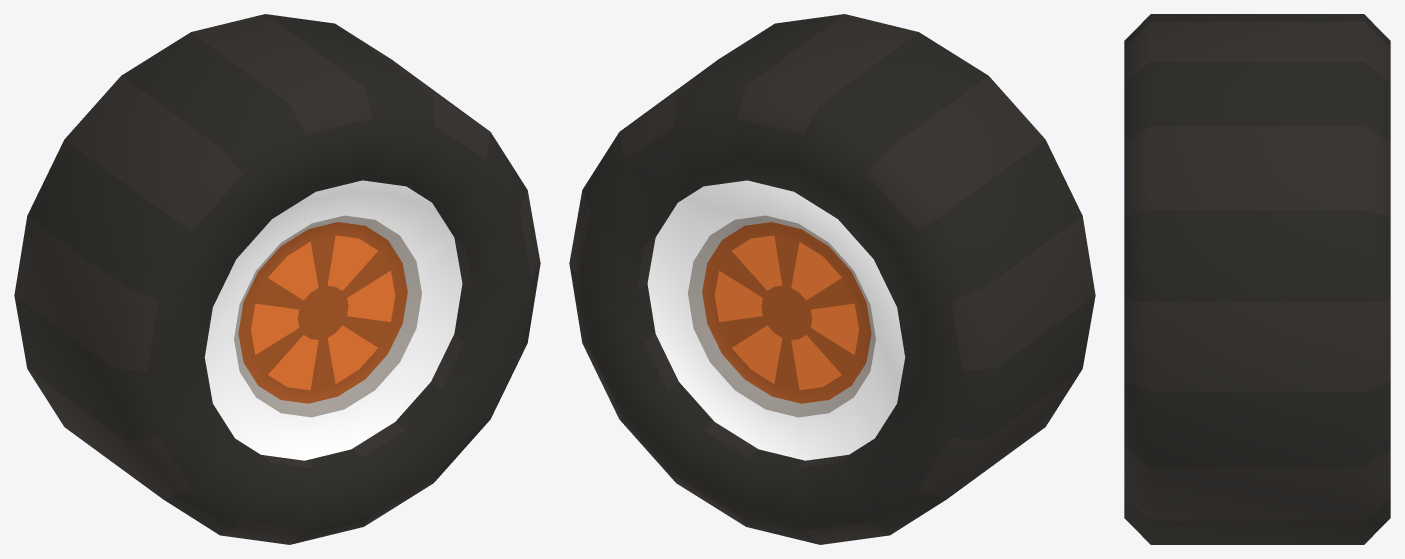
The model's file is wheel.glb.
3 views of the same model, side by side, from view 1: azimuth 30°, elevation 25°; view 2: azimuth 150°, elevation 25°; view 3: azimuth 270°, elevation 25° (orthographic). The views are drawn at different scales.
Visible parts, largest first — view 1: car_wheel; view 2: car_wheel; view 3: car_wheel.
Part boxes in pixels (x1=…): car_wheel: x1=14, y1=14, x2=540, y2=544; car_wheel: x1=569, y1=14, x2=1095, y2=544; car_wheel: x1=1124, y1=14, x2=1390, y2=544.
Bounding box in the file's own units: 0.8 × 0.7878 × 0.4.
1 material, 1 textured.
